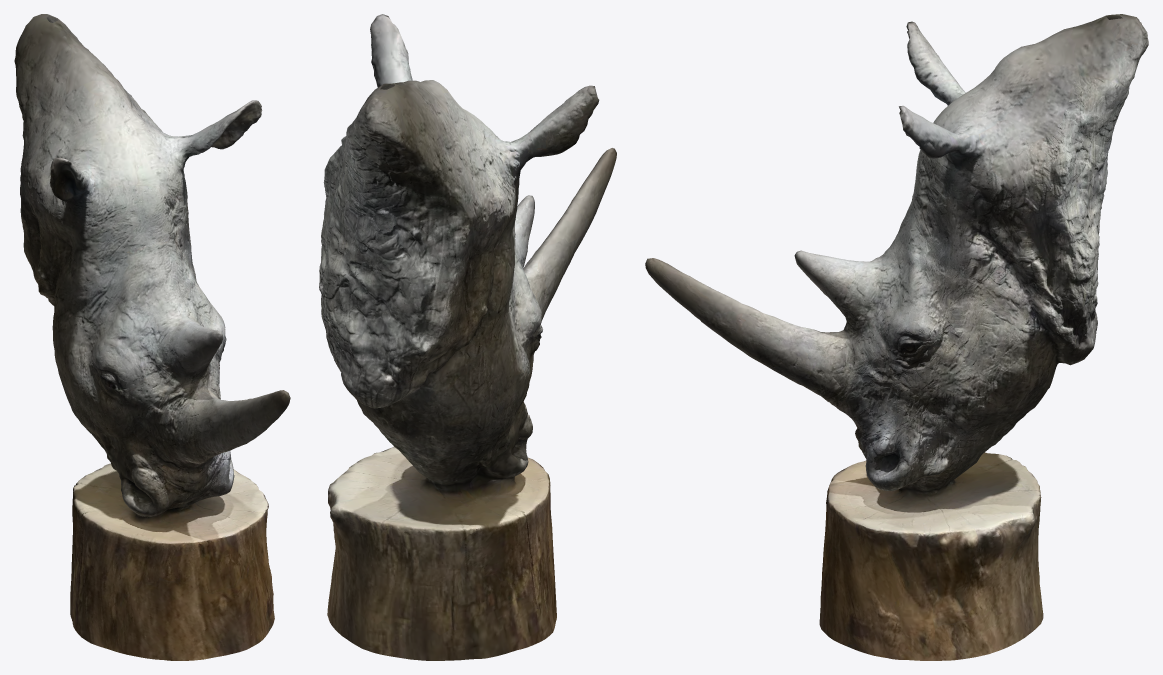
Rendered from suigetsu-rhino.glb.
3 views of the same model, side by side, from view 1: azimuth 30°, elevation 25°; view 2: azimuth 150°, elevation 25°; view 3: azimuth 270°, elevation 25° (orthographic). The views are drawn at different scales.
Visible parts, largest first — view 1: _4F030226_3EEC_4B9C_8110_8B6546E039E7; view 2: _4F030226_3EEC_4B9C_8110_8B6546E039E7; view 3: _4F030226_3EEC_4B9C_8110_8B6546E039E7.
Part boxes in pixels (<box>): _4F030226_3EEC_4B9C_8110_8B6546E039E7: <box>14,14,290,660</box>; _4F030226_3EEC_4B9C_8110_8B6546E039E7: <box>319,14,616,660</box>; _4F030226_3EEC_4B9C_8110_8B6546E039E7: <box>645,14,1148,660</box>.
Bounding box in the file's own units: 0.8027 × 1.92 × 1.5.
Materials: 1 (1 with a texture image).
